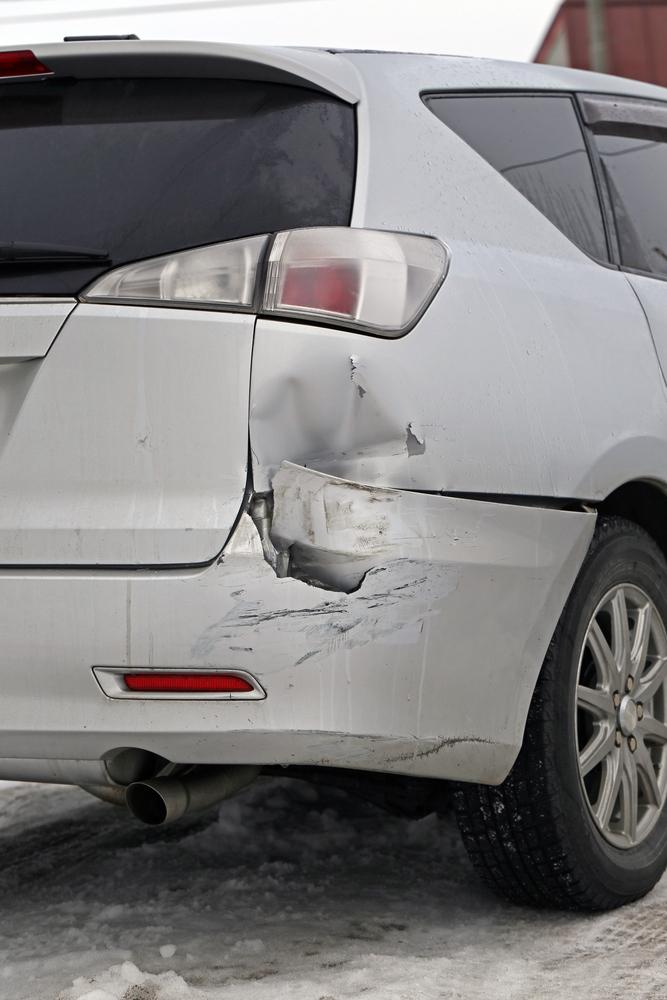crack: (244, 480, 379, 596)
dent: (247, 357, 408, 485)
scratch: (192, 474, 465, 676), (292, 728, 512, 767)
